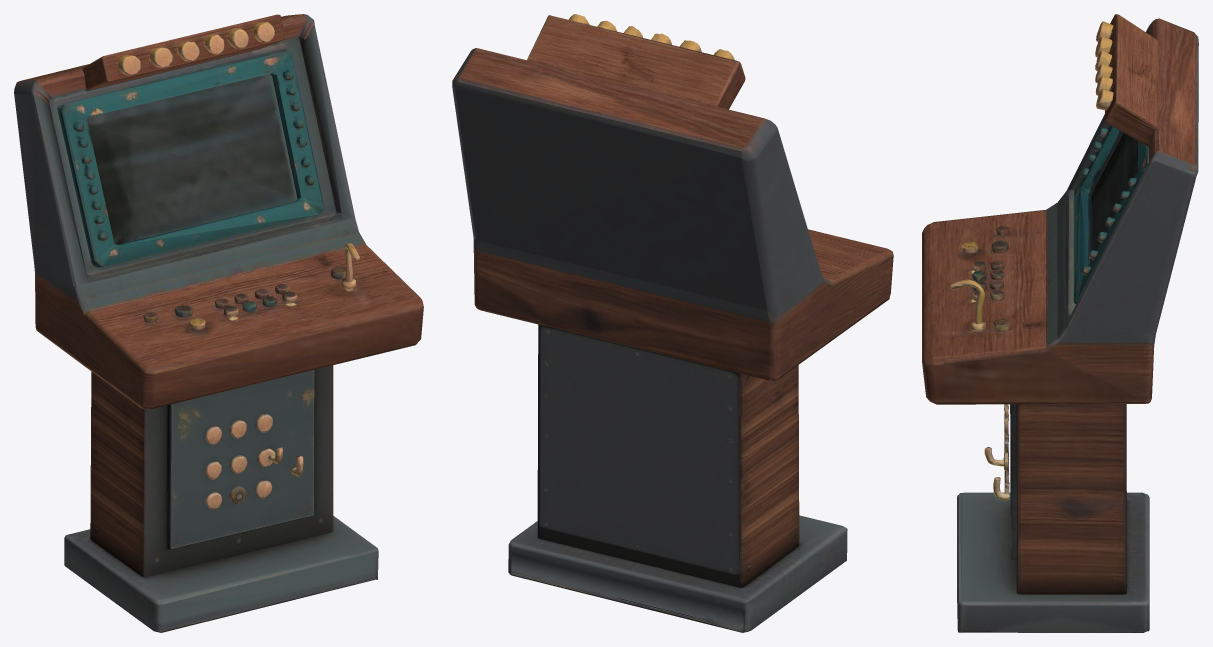
File: sci-fi-console.glb
3 renders of one model, left to right at view 1: azimuth 30°, elevation 25°; view 2: azimuth 150°, elevation 25°; view 3: azimuth 270°, elevation 25°, orthographic. The views are drawn at different scales.
Bounding box in the file's own units: 0.6329 × 1.1 × 0.5274.
Materials: 1 (1 with a texture image).
